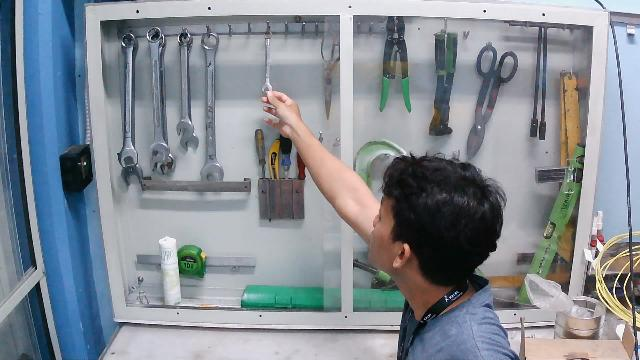kunci_pass_13: (248, 21, 291, 115)
